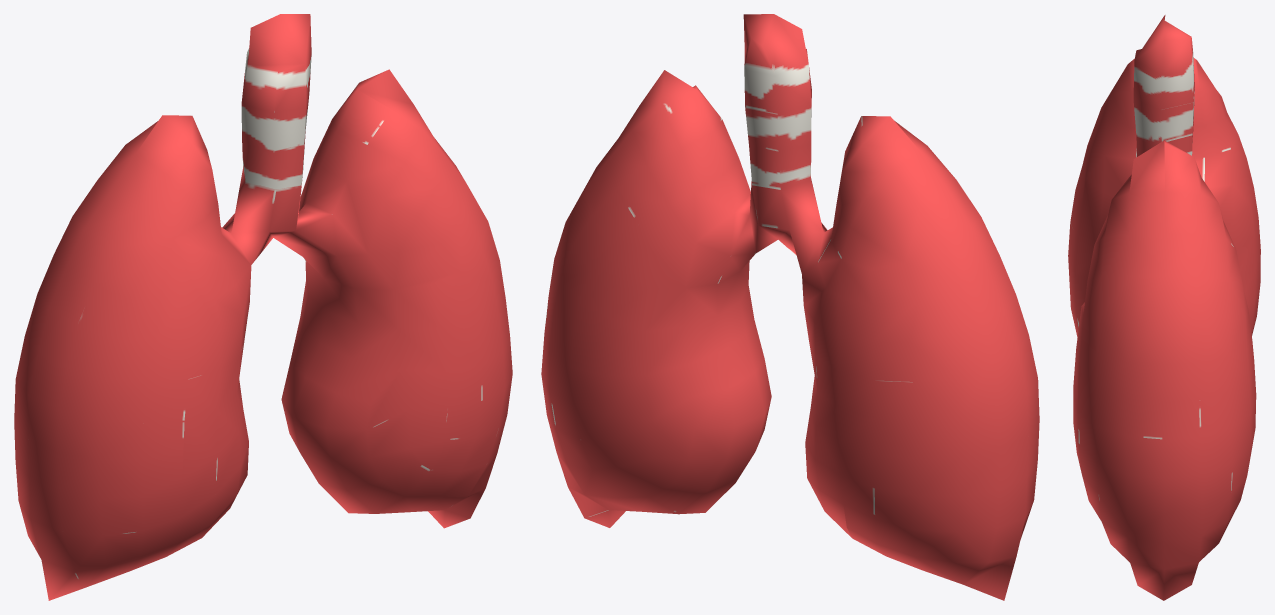
Rendered from lungs.gltf.
The picture shows the model from 3 angles, left to right: view 1: azimuth 30°, elevation 25°; view 2: azimuth 150°, elevation 25°; view 3: azimuth 270°, elevation 25°; orthographic projection. The views are drawn at different scales.
Visible parts, largest first — view 1: легкие; view 2: легкие; view 3: легкие.
Part boxes in pixels (box(x1,y1,x2,y2)): легкие: box(14, 14, 512, 600); легкие: box(541, 14, 1039, 600); легкие: box(1068, 15, 1260, 600).
Bounding box in the file's own units: 5.56 × 6.21 × 2.15.
1 material, 1 textured.
